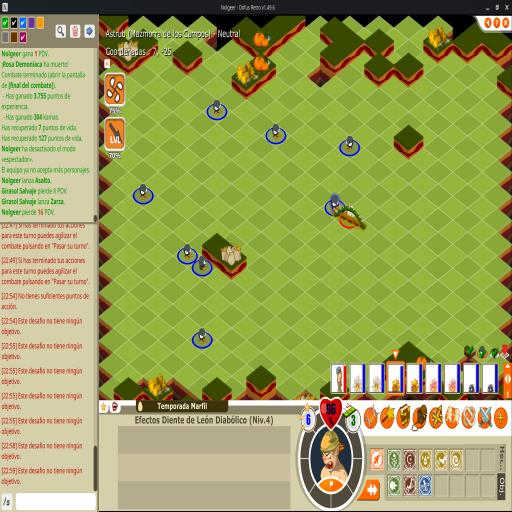Enemigos: (330, 195, 342, 213), (198, 327, 208, 344), (272, 124, 282, 140), (344, 136, 354, 152), (139, 184, 149, 200), (183, 244, 193, 260), (198, 256, 208, 272), (213, 99, 222, 116)
Personaje: (334, 200, 368, 232)
